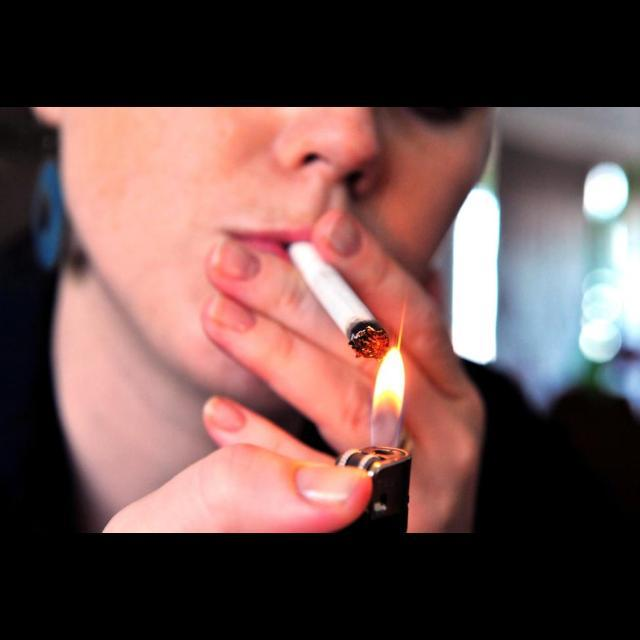rokok: (278, 229, 404, 369)
